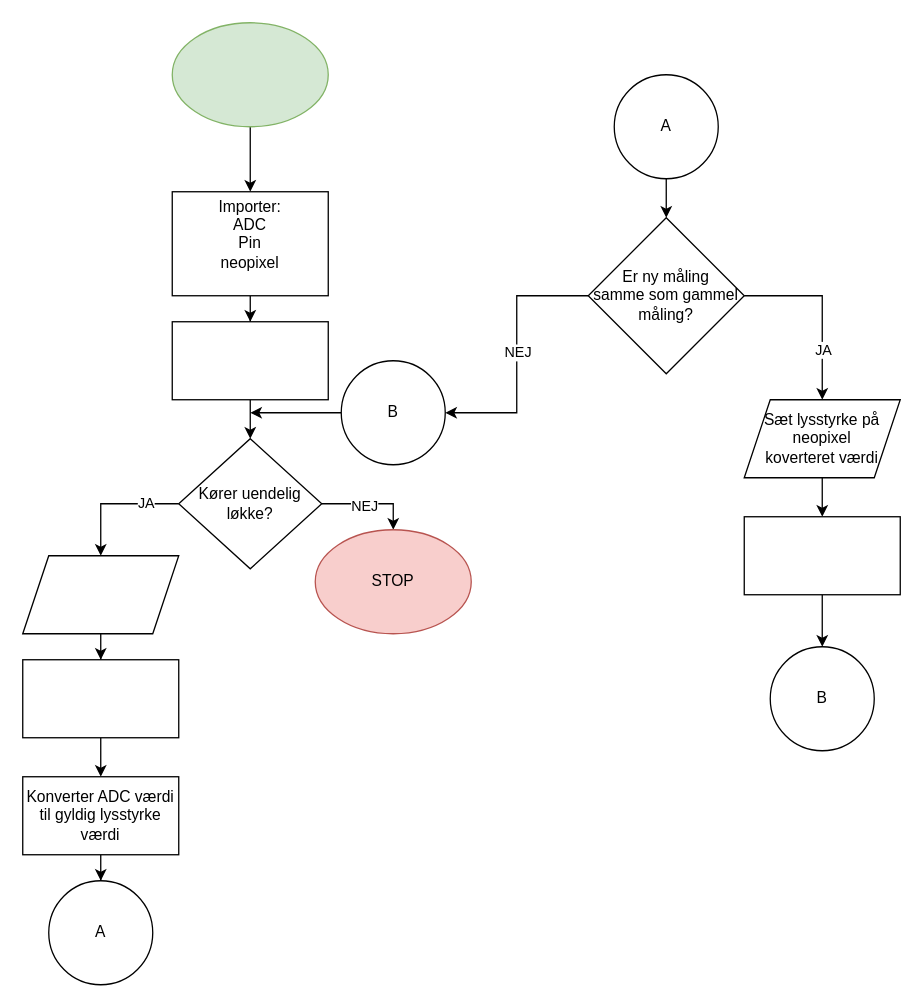
This 923x1007 diagram has some shape labels left out. The shapes that lost their labels are listed below. From the top down, each one's box as (x1, y1, x2, y2) in pixels, then its label:
(171, 21, 328, 127): START
(171, 320, 328, 400): lav ADC instans lav neopixel instans
(743, 515, 900, 595): Gem ADC måling i variabel til gammel måling
(21, 554, 179, 634): Aflæs potmeter
(21, 658, 179, 738): Gem ADC måling i variabel til ny måling
